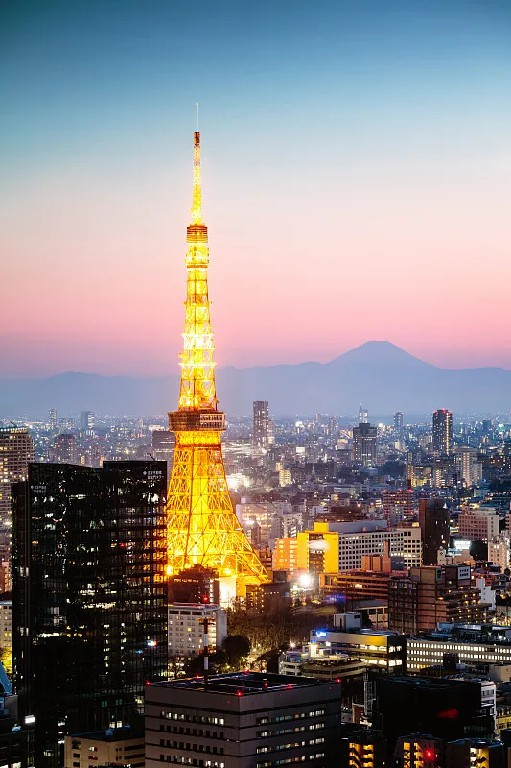Tokyo: (158, 100, 269, 587)
